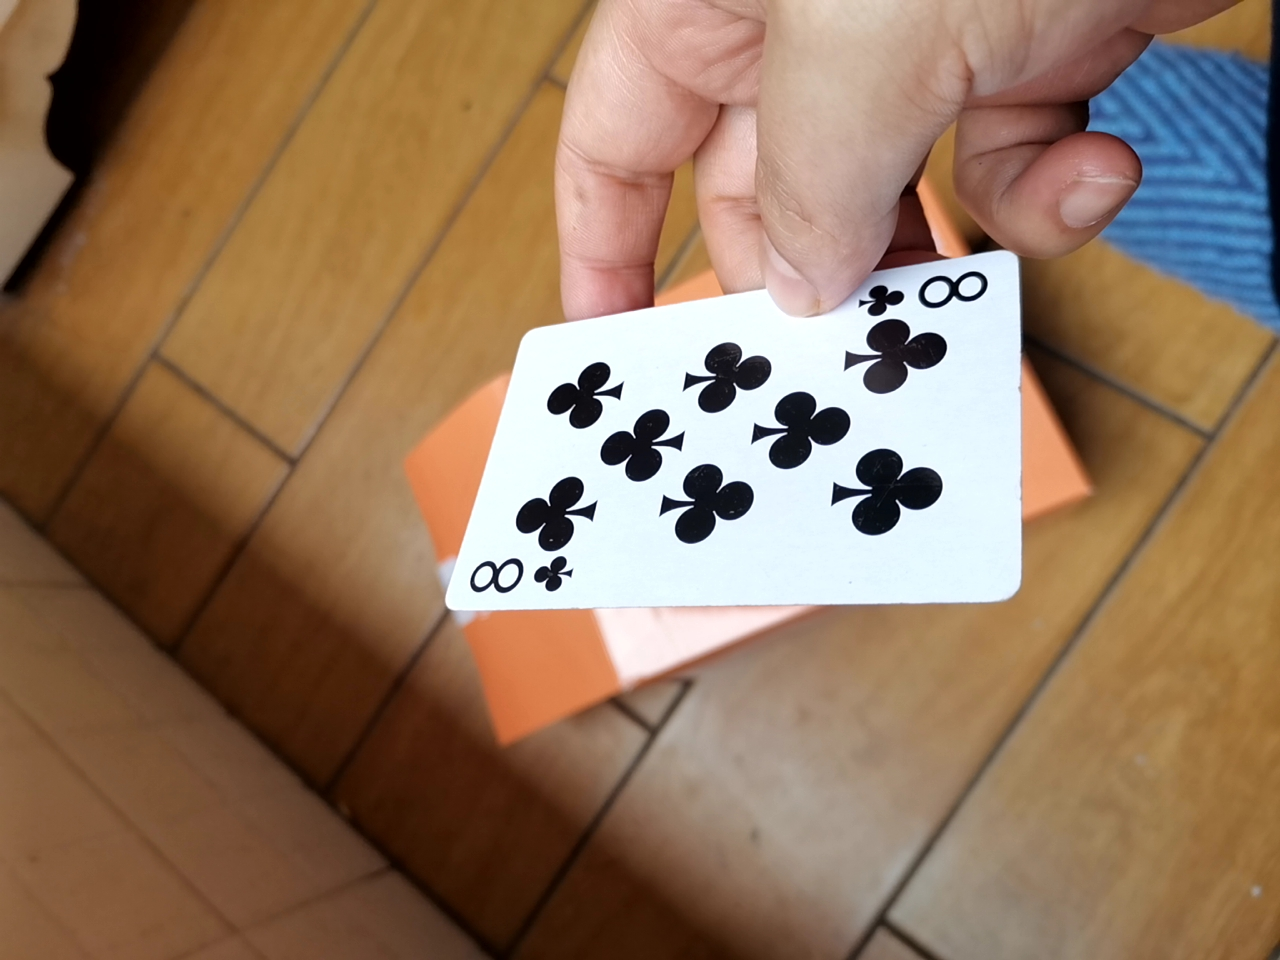mh 8: (447, 245, 1026, 657)
